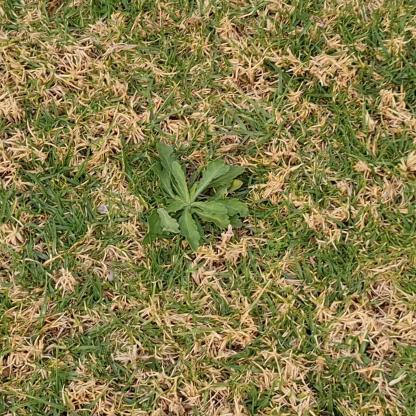Weeds: (140, 139, 251, 255)
